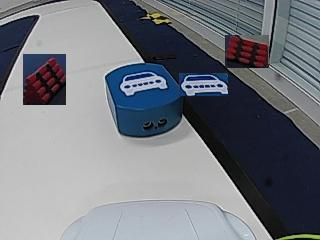safety: (119, 70, 169, 96)
